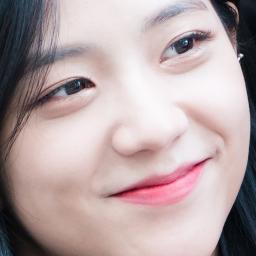face: (12, 0, 250, 256)
